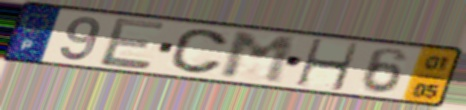6: (360, 46, 410, 96)
9: (57, 15, 102, 62)
C: (167, 27, 231, 76)
E: (97, 16, 169, 72)
H: (294, 37, 362, 93)
M: (219, 31, 299, 86)
